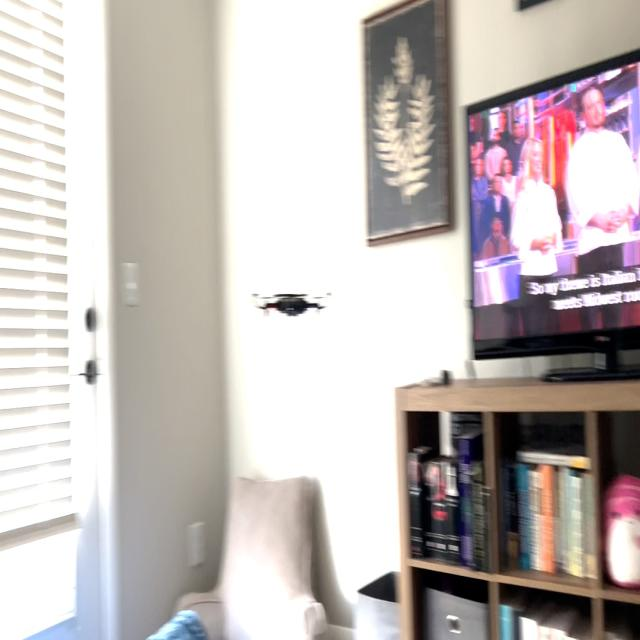drone: (245, 268, 340, 330)
